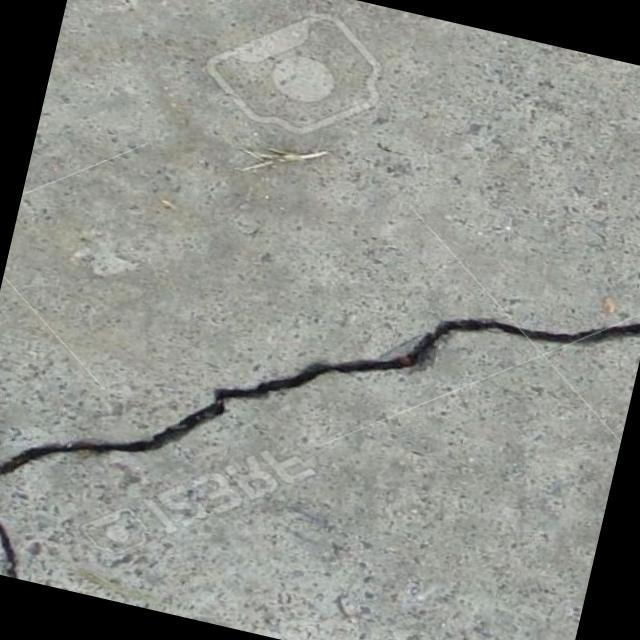crack: (0, 179, 640, 601), (0, 459, 39, 577)
